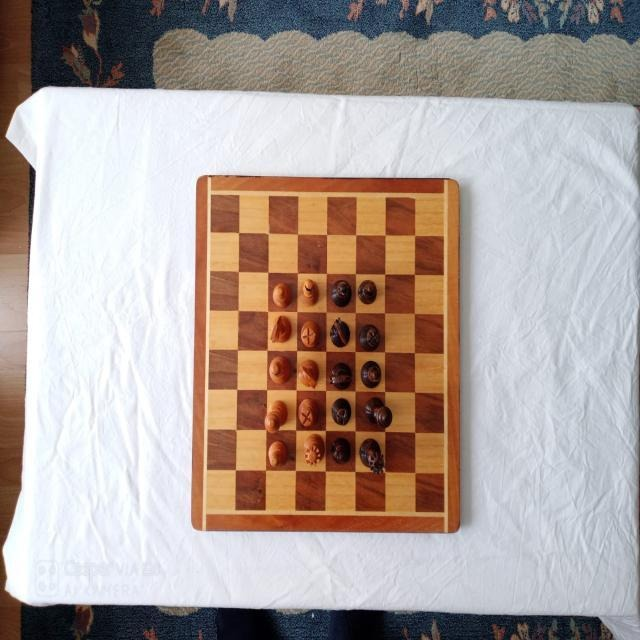black-bishop: (361, 359, 382, 389), (332, 278, 352, 307)
black-king: (365, 396, 393, 428)
black-knight: (328, 362, 351, 390), (330, 316, 350, 348)
black-pawn: (330, 437, 350, 465), (358, 279, 378, 304)
black-queen: (359, 437, 387, 475)
black-rook: (359, 324, 381, 352), (332, 398, 352, 426)
white-bishop: (269, 356, 291, 384), (300, 278, 320, 306)
white-king: (264, 399, 288, 433)
white-knight: (297, 358, 318, 389), (269, 315, 292, 343)
white-pawn: (268, 440, 288, 467), (272, 282, 291, 308)
white-queen: (303, 433, 325, 467)
white-rook: (300, 320, 321, 348), (297, 399, 318, 427)
